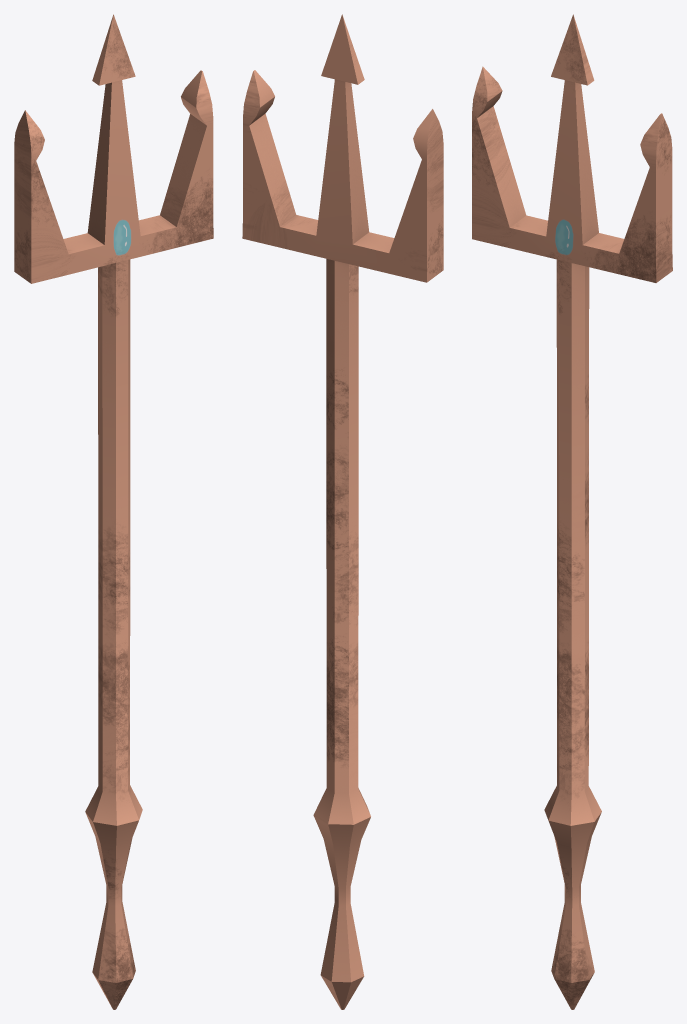
File: tridente_con_color.fbx
The picture shows the model from 3 angles, left to right: view 1: azimuth 30°, elevation 25°; view 2: azimuth 150°, elevation 25°; view 3: azimuth 330°, elevation 25°; orthographic projection.
Visible parts, largest first — view 1: Box001; view 2: Box001; view 3: Box001.
Boxes of the visible parts, x1,y1,x2,y2 form: Box001: [14, 14, 213, 1009]; Box001: [242, 14, 443, 1009]; Box001: [472, 14, 672, 1009].
Bounding box in the file's own units: 11.05 × 57.21 × 2.95.
Materials: 1 (1 with a texture image).
